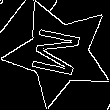M_E: (29, 25, 89, 81)
